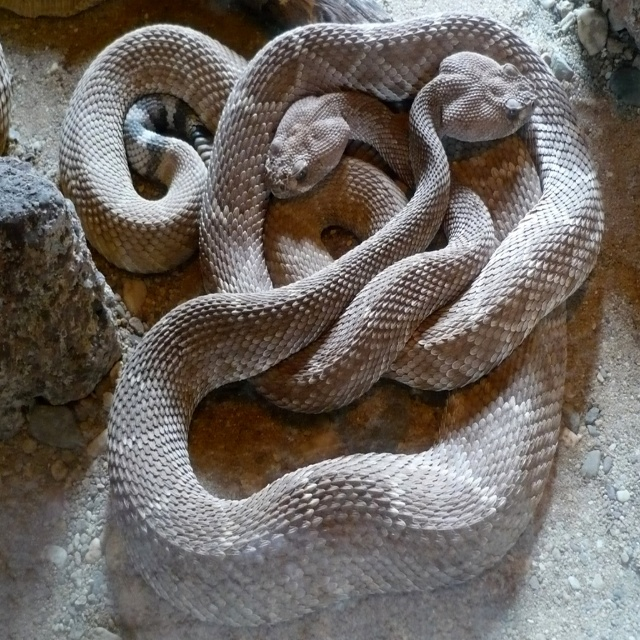Snake: (58, 12, 606, 627), (0, 42, 11, 156)
